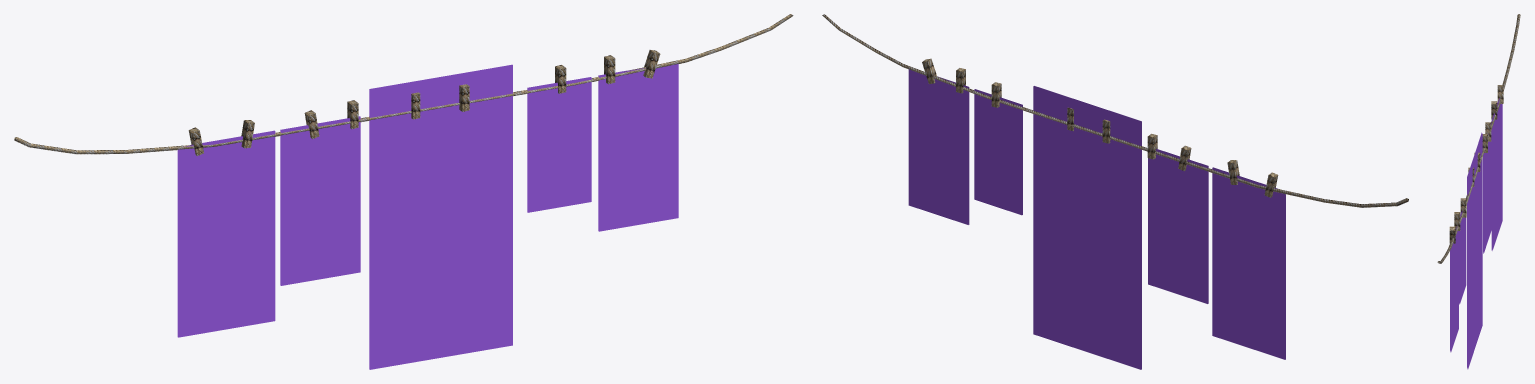
File: rope_cloth.fbx
3 renders of one model, left to right at view 1: azimuth 30°, elevation 25°; view 2: azimuth 150°, elevation 25°; view 3: azimuth 270°, elevation 25°, orthographic. The views are drawn at different scales.
Visible parts, largest first — view 1: Mesh Object; view 2: Mesh Object; view 3: Mesh Object.
Boxes of the visible parts, x1,y1,x2,y2 form: Mesh Object: (14, 14, 793, 369); Mesh Object: (822, 14, 1408, 369); Mesh Object: (1437, 14, 1520, 369).
Bounding box in the file's own units: 372 × 144 × 54.05.
